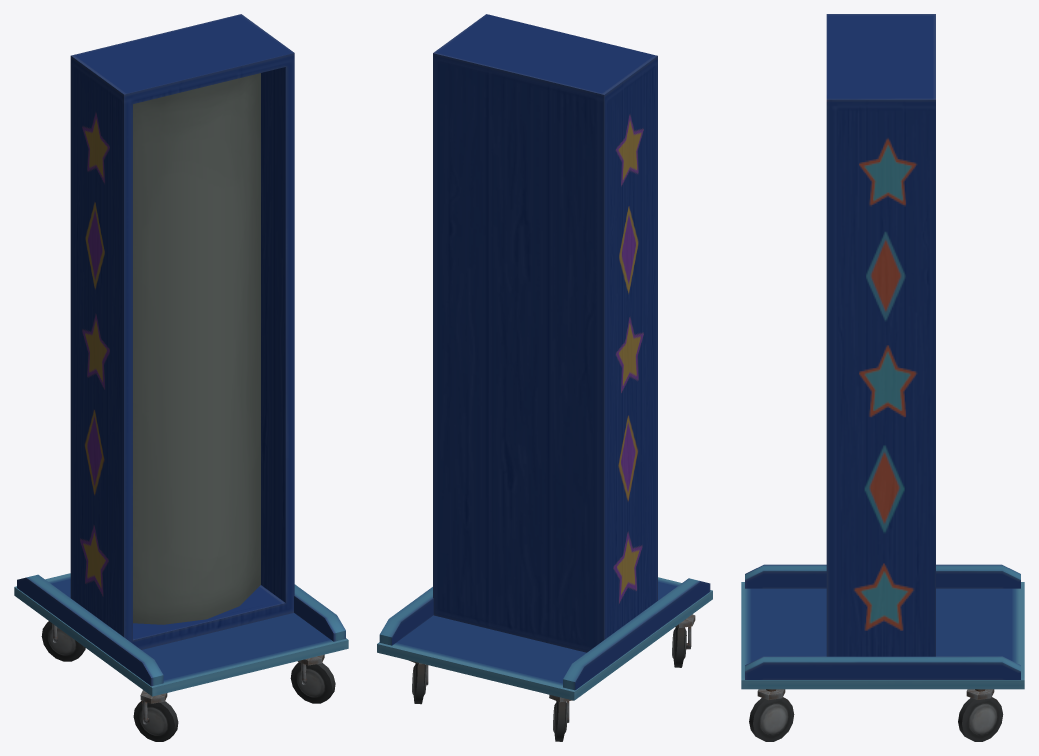
Rendered from CrazyMirror_Blue_Scaled.fbx.
3 views of the same model, side by side, from view 1: azimuth 30°, elevation 25°; view 2: azimuth 150°, elevation 25°; view 3: azimuth 270°, elevation 25° (orthographic). The views are drawn at different scales.
Parts seen in each view (by area): view 1: Mirror, MainFrame2, BottomA, BottomB, BottomB1, WheelB1, WheelB4, WheelB2; view 2: MainFrame2, BottomA, BottomB, BottomB1; view 3: MainFrame2, BottomA, BottomB1, BottomB, WheelB1, WheelB3.
Boxes of the visible parts, x1,y1,x2,y2 form: Mirror: (133,73,260,624); MainFrame2: (70,14,294,649); BottomA: (14,573,348,696); BottomB: (17,574,163,686); BottomB1: (294,584,345,641); WheelB1: (290,662,335,703); WheelB4: (133,700,178,741); WheelB2: (41,621,85,661); MainFrame2: (433,14,657,652); BottomA: (377,577,712,700); BottomB: (563,578,710,690); BottomB1: (379,587,433,645); MainFrame2: (826,14,935,656); BottomA: (741,582,1024,689); BottomB1: (745,656,1020,679); BottomB: (745,564,1020,588); WheelB1: (749,697,794,741); WheelB3: (958,697,1003,741).
Bounding box in the file's own units: 81.58 × 249 × 99.33.
